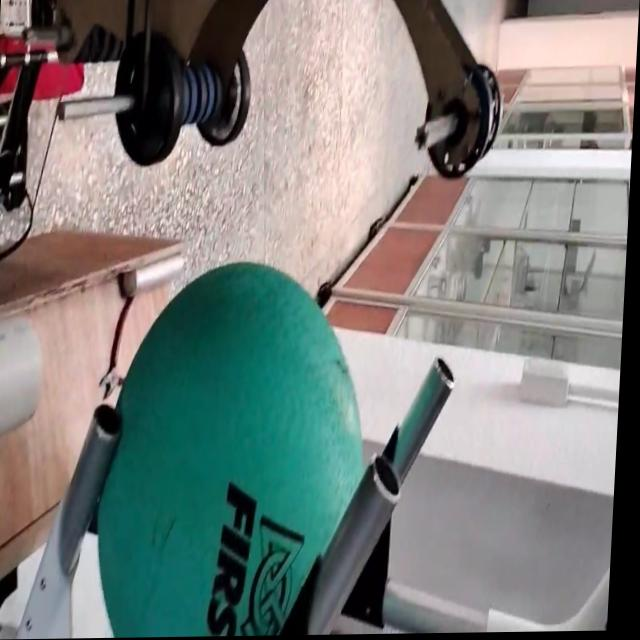ALGAE: (90, 252, 375, 638)
CORAL: (0, 290, 59, 463)
